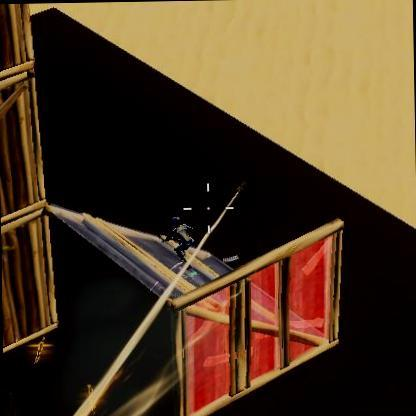person: (168, 214, 191, 278)
